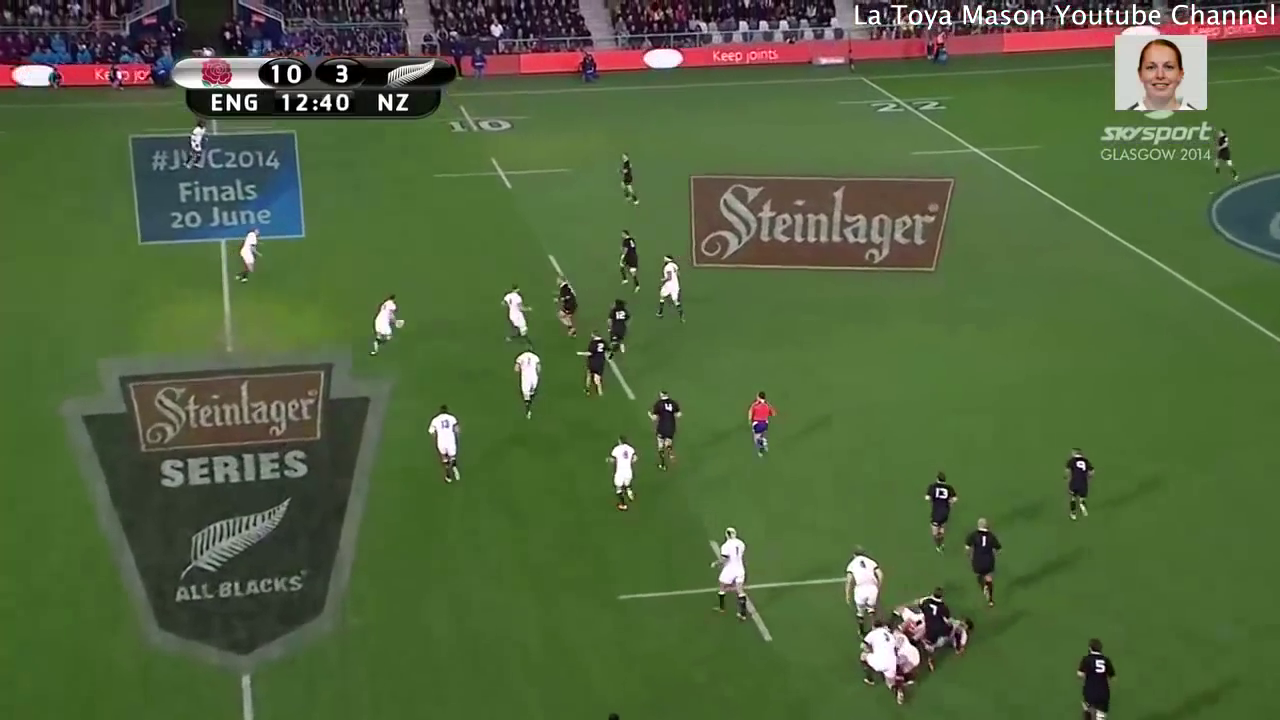10_metre: (600, 528, 874, 643), (424, 148, 579, 197), (414, 100, 534, 135)
player: (953, 498, 1010, 617), (844, 612, 910, 712), (412, 386, 472, 492), (829, 538, 888, 641), (893, 586, 970, 663), (1063, 627, 1124, 720), (349, 281, 416, 364), (708, 516, 755, 624), (637, 379, 685, 484), (597, 424, 649, 520), (906, 464, 956, 560), (1058, 440, 1103, 532), (645, 244, 692, 328), (739, 380, 785, 463), (606, 223, 649, 303), (507, 337, 546, 422), (486, 281, 535, 347), (575, 321, 610, 404), (590, 294, 633, 361), (545, 270, 585, 342), (610, 147, 649, 215), (229, 220, 266, 287), (175, 111, 208, 176)
